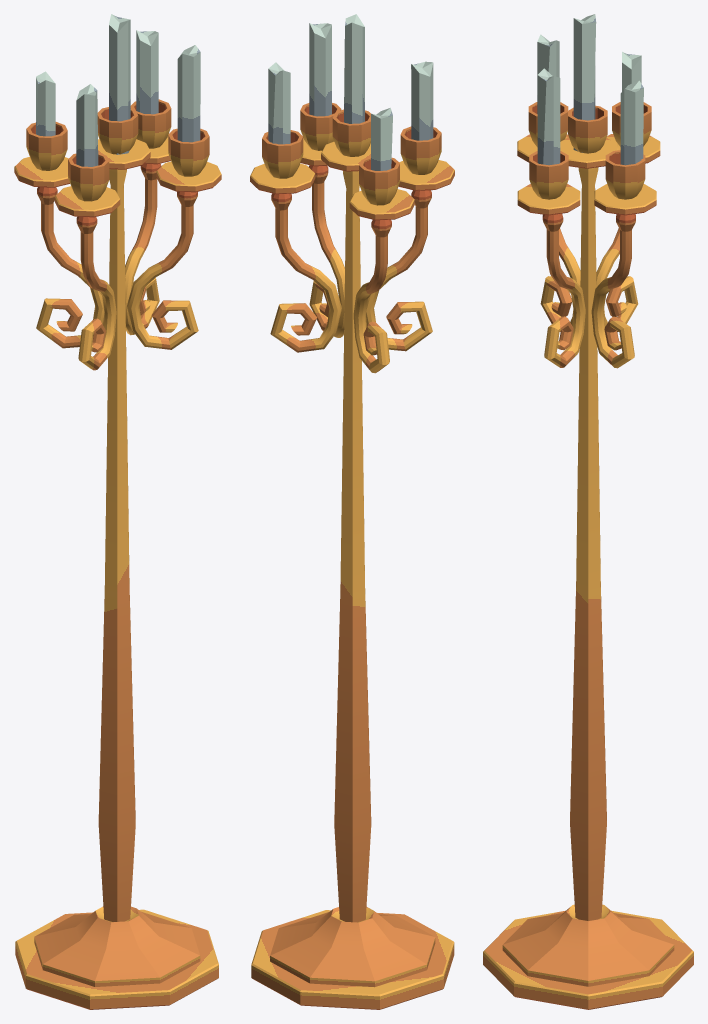
The model's file is chandelle_v05.fbx.
3 renders of one model, left to right at view 1: azimuth 30°, elevation 25°; view 2: azimuth 150°, elevation 25°; view 3: azimuth 270°, elevation 25°, orthographic.
Visible parts, largest first — view 1: chandelle_v02_combine3_polySurface30; view 2: chandelle_v02_combine3_polySurface30; view 3: chandelle_v02_combine3_polySurface30.
Boxes of the visible parts, <box> form: chandelle_v02_combine3_polySurface30: <box>14,14,221,1009</box>; chandelle_v02_combine3_polySurface30: <box>250,14,454,1009</box>; chandelle_v02_combine3_polySurface30: <box>483,14,693,1009</box>.
Bounding box in the file's own units: 75.44 × 375 × 75.44.
1 material, 1 textured.
